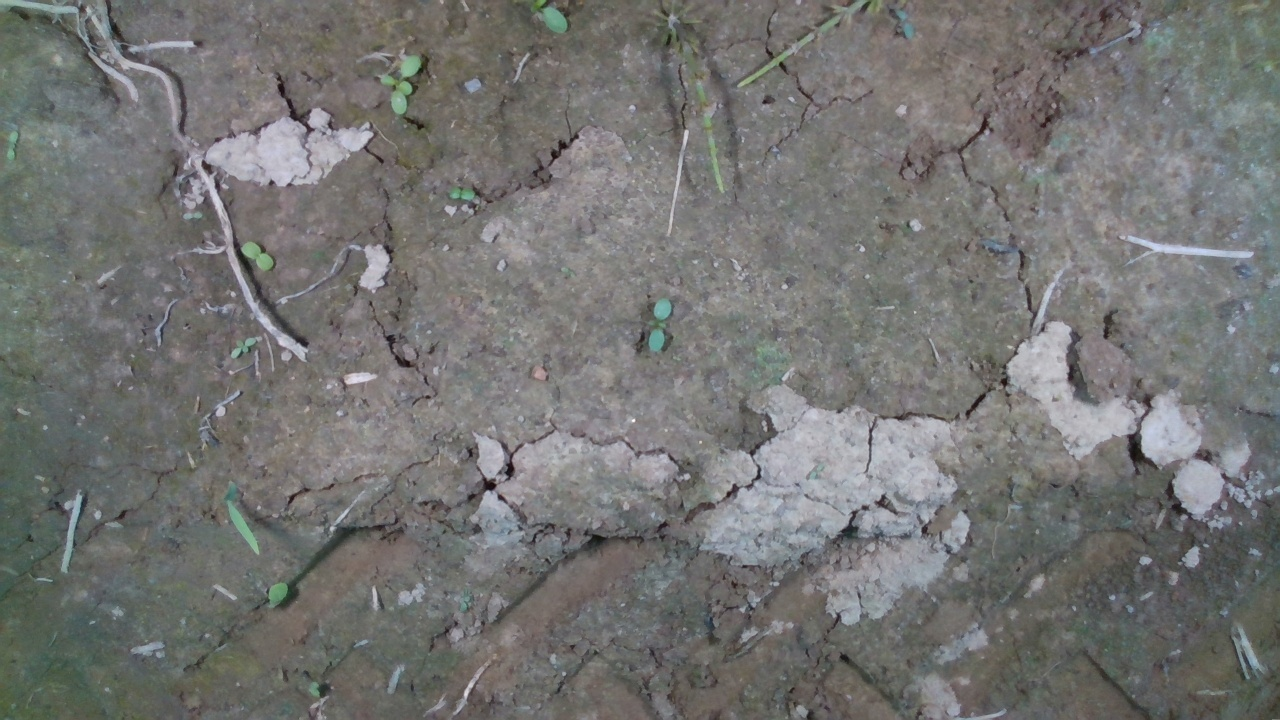weed: (374, 53, 423, 116), (646, 296, 673, 355), (238, 239, 275, 272), (228, 335, 258, 361), (446, 184, 477, 200), (6, 128, 20, 162)
